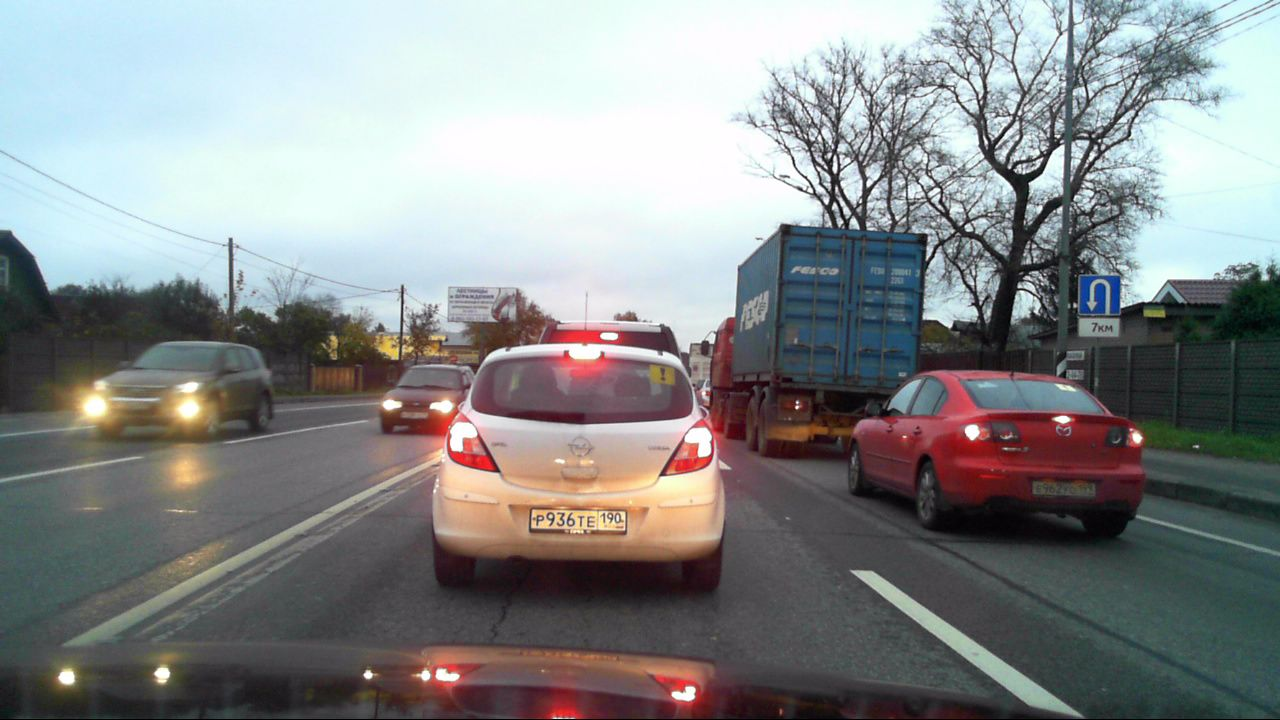U-turn: (1079, 275, 1120, 315)
